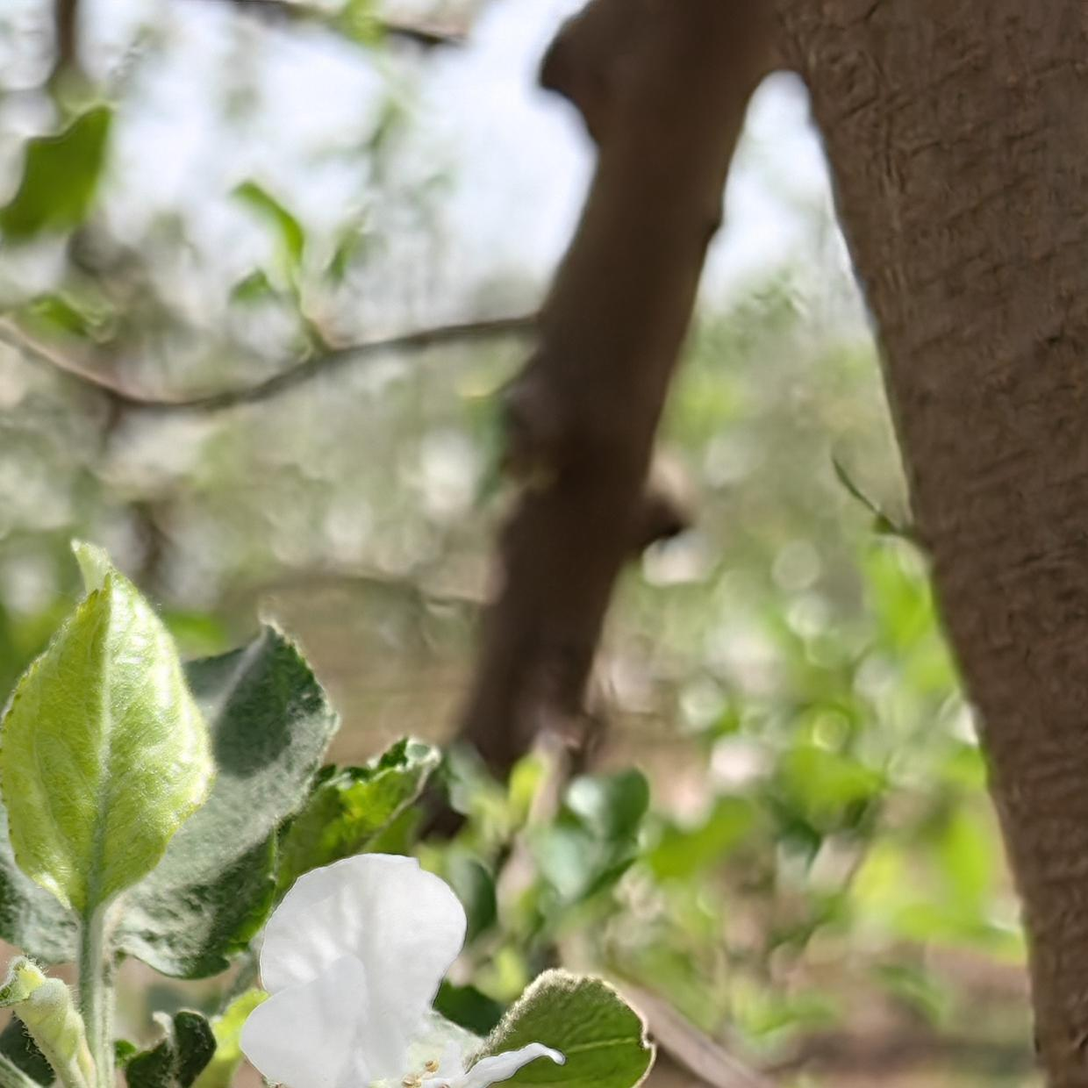apple_flower: (207, 851, 548, 1088)
